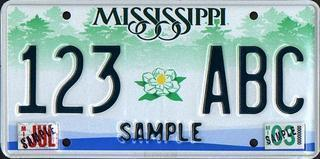placa de veiculo: (4, 1, 314, 155)
